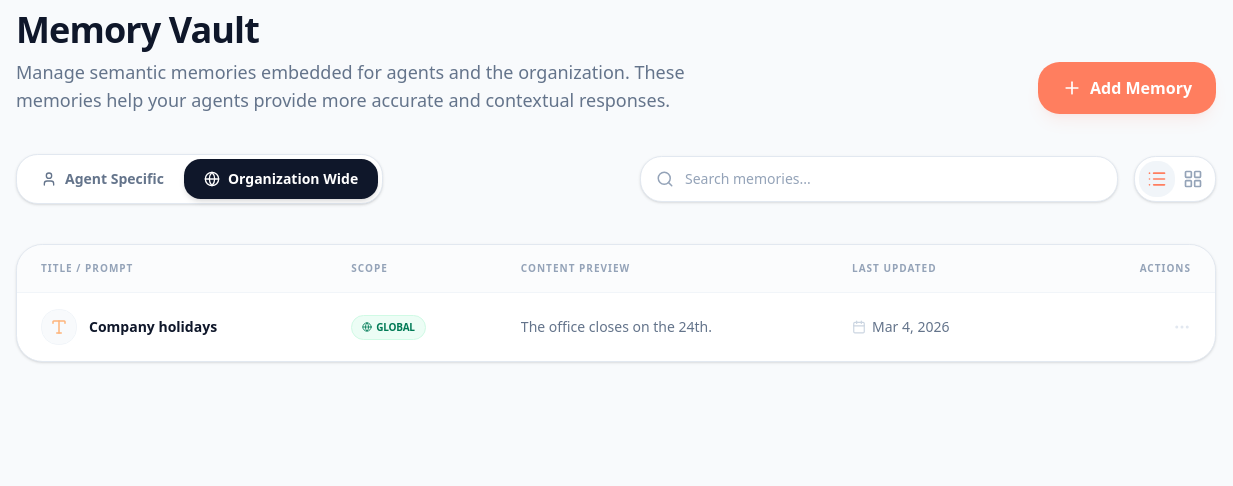
Scenario: the memory vault page › the view toggle › switches back
The width and height of the screenshot is (1233, 486).
Expected: the text "Company holidays" is shown, 89,317 -> 217,337
Click the button titled "Grid View".
click(1193, 179)  # box 1175,161 -> 1211,197
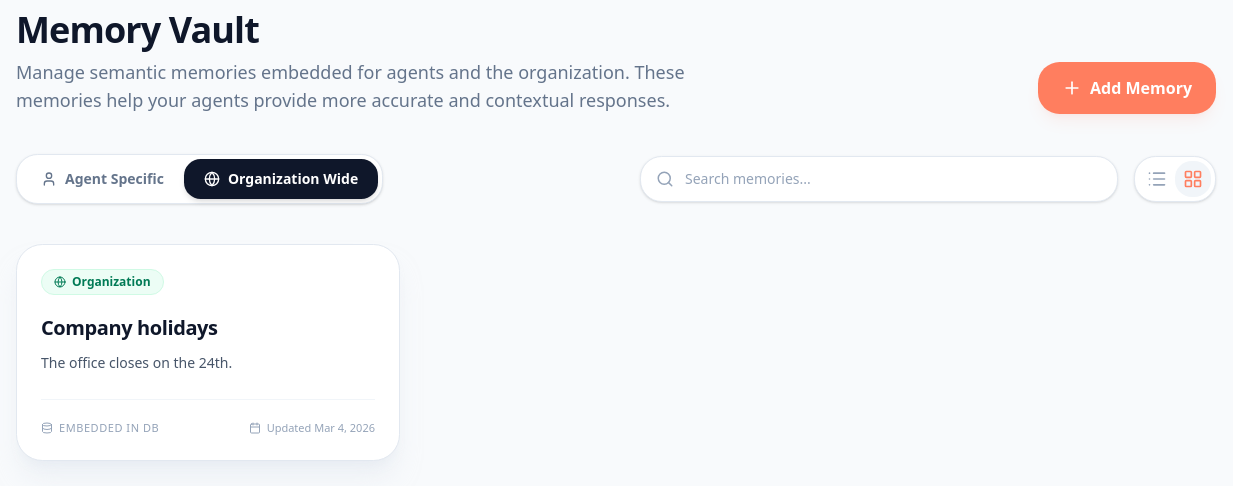
Click the button titled "List View".
click(1157, 179)  # box 1139,161 -> 1175,197
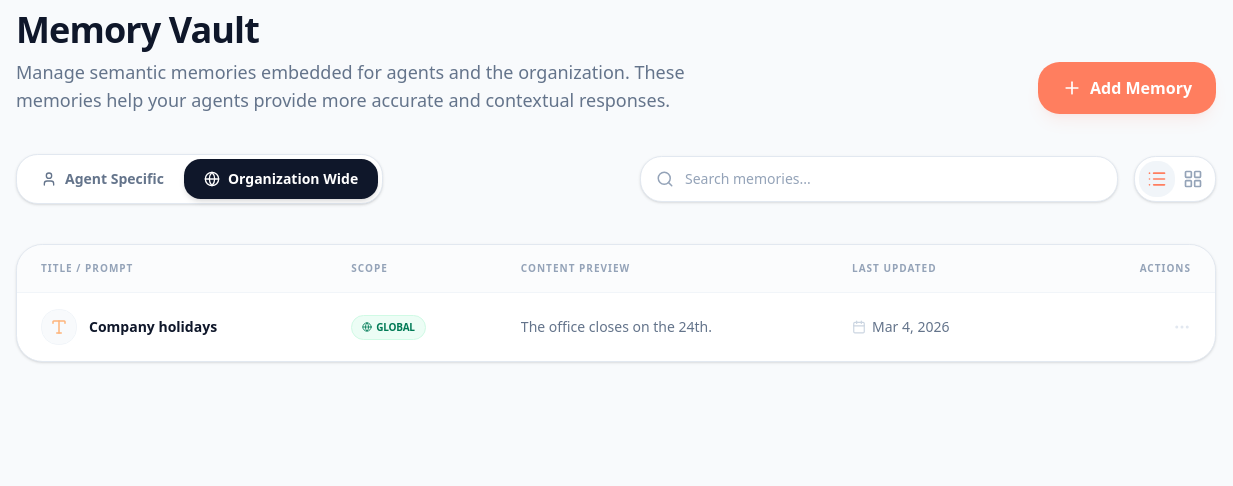
Expected: the table is shown, 17,245 -> 1215,361
